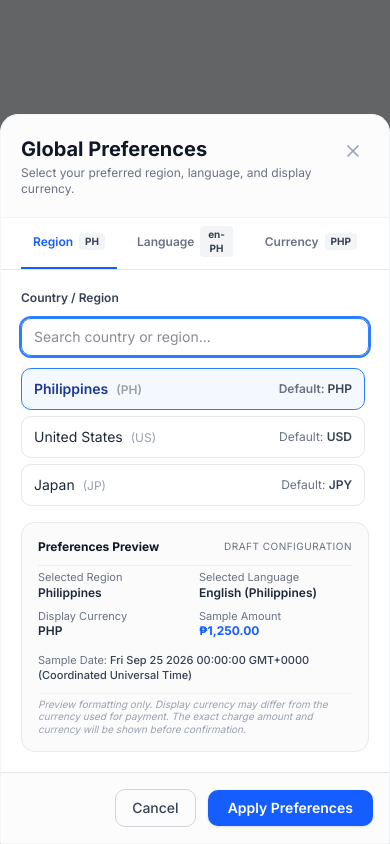
Test: GLCC-P2A — Global Preferences UI Foundation › 2. Control Independence & Financial Boundaries › 2.2. Changing currency does not alter country or language
This screenshot has width=390, height=844.
# Switch to Currency tab
Click the tab "Currency PHP" at (311, 248), box [253,226,369,269]
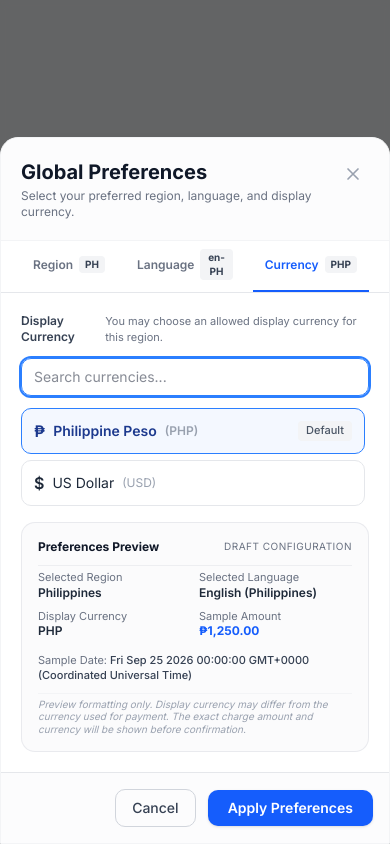
# Select 'USD' (allowed for PH)
Click the radio button labelled "$ US Dollar (USD)" at (83, 482), box [21,460,365,506]
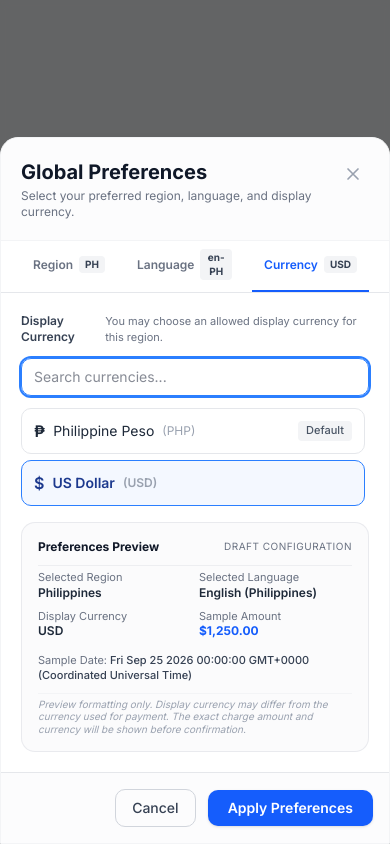
Expected: the tab "Region PH" is shown, [21,249,117,292]
Now the tab "Currency USD" is shown, box [252,249,369,292]
